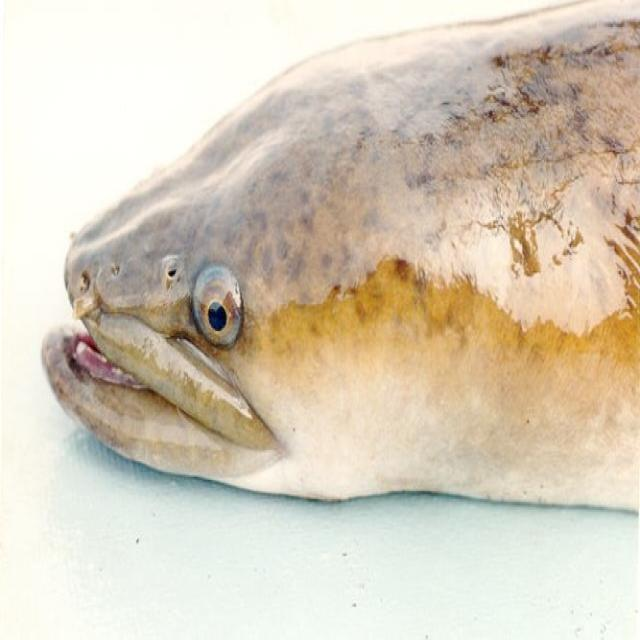Freshwater-Eel: (48, 39, 640, 547)
